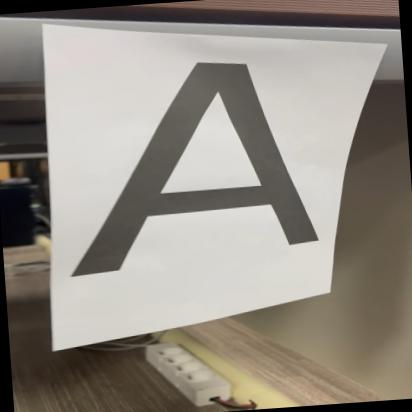seat: (61, 43, 328, 275)
